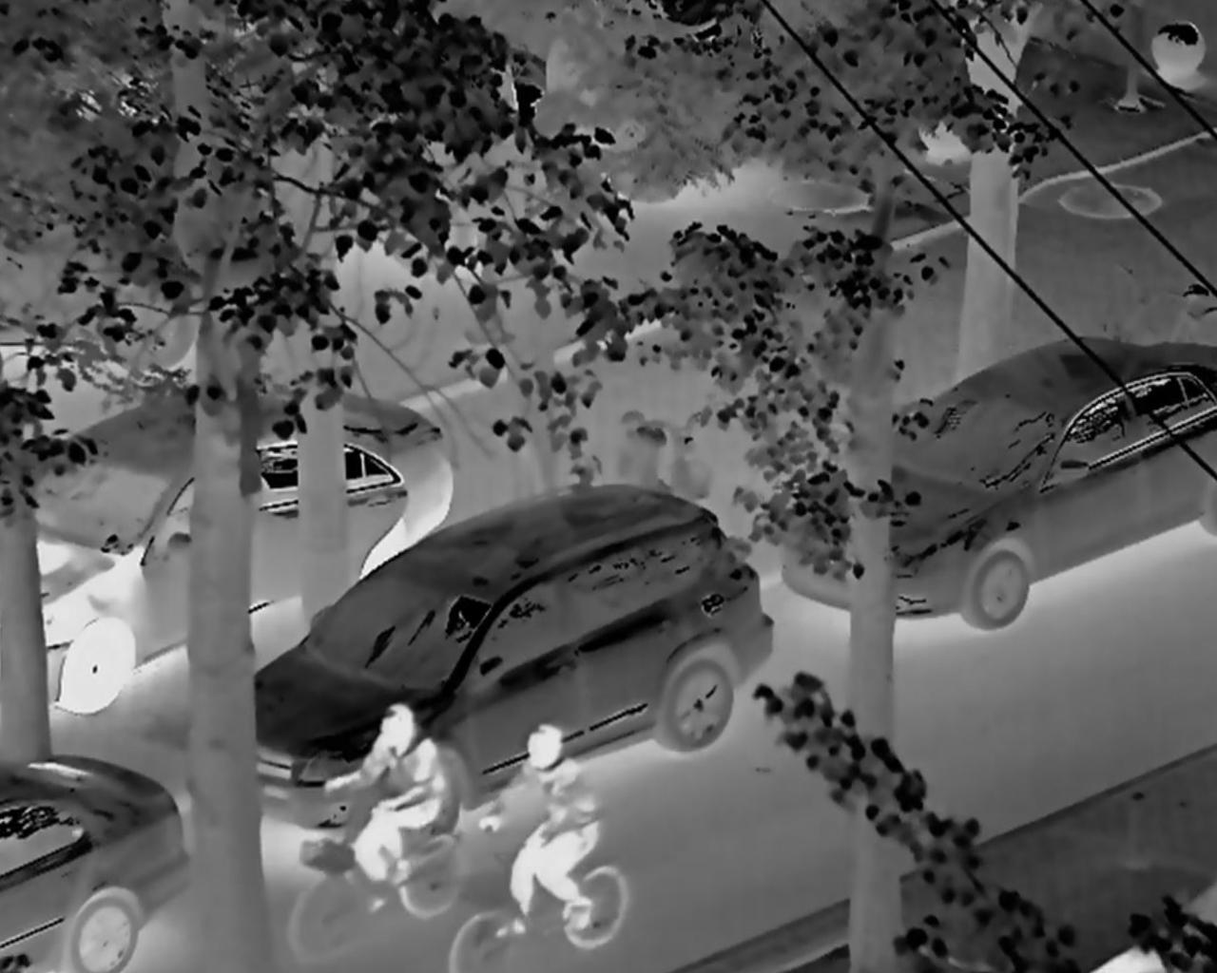person: (319, 691, 456, 928), (483, 721, 611, 955)
